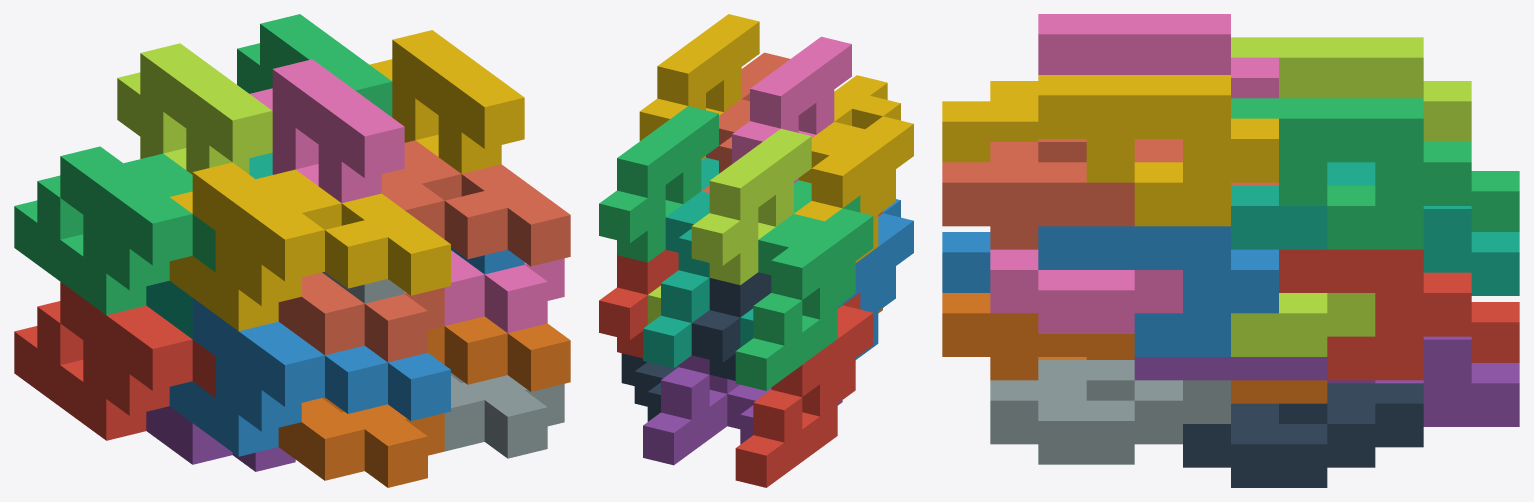
File: tiling.obj
3 views of the same model, side by side, from view 1: azimuth 30°, elevation 25°; view 2: azimuth 150°, elevation 25°; view 3: azimuth 270°, elevation 25° (orthographic). The views are drawn at different scales.
Parts seen in each view (by area): view 1: copy_4_domain_4, copy_1_domain_3, copy_2_domain_3, copy_2_domain_4, copy_4_domain_8, copy_2_domain_8, copy_4_domain_2, copy_1_domain_1, copy_1_domain_4, copy_3_domain_2, copy_3_domain_4, copy_1_domain_2 (+10 smaller); view 2: copy_1_domain_3, copy_2_domain_3, copy_2_domain_7, copy_1_domain_1, copy_2_domain_8, copy_2_domain_4, copy_1_domain_5, copy_4_domain_4, copy_1_domain_4, copy_1_domain_7, copy_4_domain_3, copy_2_domain_1 (+11 smaller); view 3: copy_2_domain_8, copy_2_domain_7, copy_3_domain_6, copy_2_domain_6, copy_3_domain_5, copy_2_domain_5, copy_4_domain_8, copy_2_domain_4, copy_2_domain_3, copy_3_domain_8, copy_1_domain_5, copy_4_domain_6 (+11 smaller).
Boxes of the visible parts, x1,y1,x2,y2 form: copy_4_domain_4: (238, 169, 450, 295); copy_1_domain_3: (14, 146, 169, 315); copy_2_domain_3: (117, 43, 272, 174); copy_2_domain_4: (250, 59, 404, 202); copy_4_domain_8: (381, 140, 570, 266); copy_2_domain_8: (370, 30, 524, 173); copy_4_domain_2: (238, 321, 450, 420); copy_1_domain_1: (14, 282, 169, 440); copy_1_domain_4: (169, 162, 301, 331); copy_3_domain_2: (278, 397, 444, 487); copy_3_domain_4: (278, 272, 444, 362); copy_1_domain_2: (169, 298, 301, 456); copy_1_domain_3: (735, 234, 855, 390); copy_2_domain_3: (691, 128, 811, 285); copy_2_domain_7: (599, 106, 718, 262); copy_1_domain_1: (735, 339, 855, 487); copy_2_domain_8: (639, 14, 759, 160); copy_2_domain_4: (732, 36, 851, 183); copy_1_domain_5: (643, 355, 739, 465); copy_4_domain_4: (798, 75, 913, 183); copy_1_domain_4: (794, 142, 895, 262); copy_1_domain_7: (643, 228, 709, 368); copy_4_domain_3: (758, 180, 873, 275); copy_2_domain_1: (691, 272, 771, 380); copy_2_domain_8: (1038, 75, 1278, 226); copy_2_domain_7: (1231, 98, 1471, 249); copy_3_domain_6: (990, 360, 1230, 464); copy_2_domain_6: (1038, 226, 1278, 356); copy_3_domain_5: (1183, 383, 1423, 487); copy_2_domain_5: (1279, 249, 1471, 380); copy_4_domain_8: (942, 139, 1182, 226); copy_2_domain_4: (1038, 14, 1278, 98); copy_2_domain_3: (1231, 37, 1471, 141); copy_3_domain_8: (990, 249, 1182, 333); copy_1_domain_5: (1327, 336, 1519, 426); copy_4_domain_6: (942, 293, 1134, 356).
Bounding box in the file's own units: 8 × 9 × 12.
